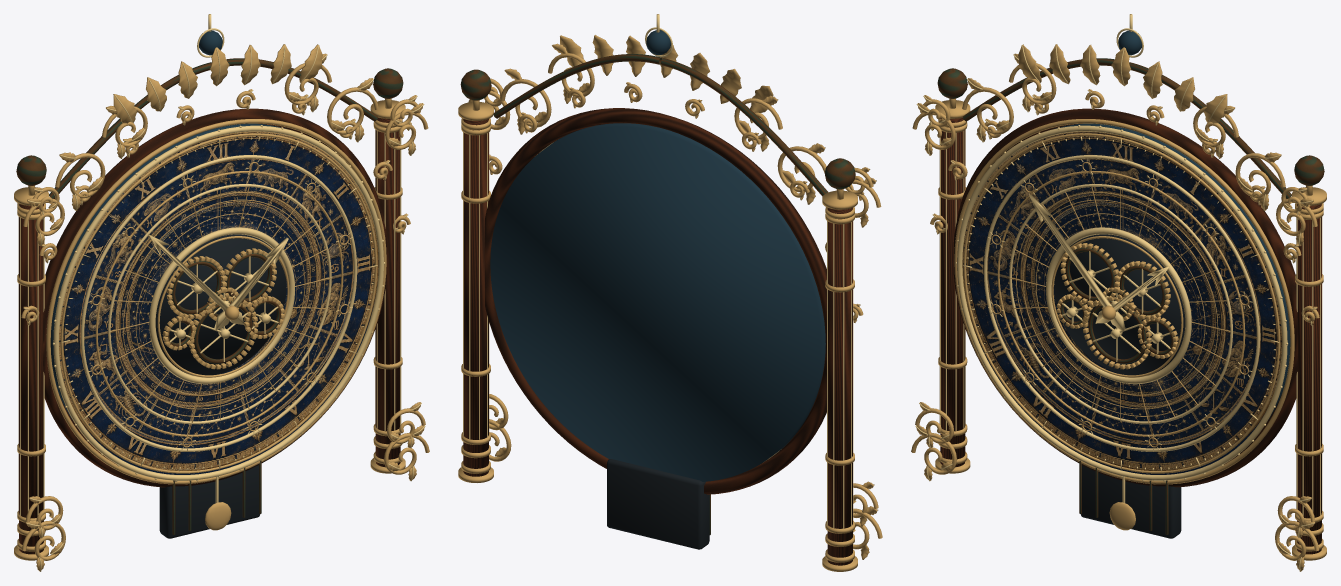
The model's file is astronomical-clock.glb.
3 renders of one model, left to right at view 1: azimuth 30°, elevation 25°; view 2: azimuth 150°, elevation 25°; view 3: azimuth 330°, elevation 25°, orthographic. The views are drawn at different scales.
Visible parts, largest first — view 1: Clock_Engraved_enamel_dial, Clock_Antique_gold, Clock_Polished_engraved_brass, Clock_Carved_walnut, Clock_Mechanism_recess, Clock_Oxidized_bronze, Clock_Midnight_enamel, HourHand, MinuteHand; view 2: Clock_Midnight_enamel, Clock_Carved_walnut, Clock_Antique_gold, Clock_Mechanism_recess, Clock_Oxidized_bronze, Clock_Polished_engraved_brass; view 3: Clock_Engraved_enamel_dial, Clock_Antique_gold, Clock_Polished_engraved_brass, Clock_Carved_walnut, Clock_Mechanism_recess, Clock_Oxidized_bronze, Clock_Midnight_enamel, MinuteHand, HourHand.
Boxes of the visible parts, x1,y1,x2,y2 form: Clock_Engraved_enamel_dial: (59,131,378,474); Clock_Antique_gold: (14,44,429,571); Clock_Polished_engraved_brass: (18,14,425,571); Clock_Carved_walnut: (19,108,400,554); Clock_Mechanism_recess: (155,234,286,538); Clock_Oxidized_bronze: (16,58,403,534); Clock_Midnight_enamel: (50,30,285,419); HourHand: (214,237,288,330); MinuteHand: (148,234,244,324); Clock_Midnight_enamel: (490,30,825,481); Clock_Carved_walnut: (463,108,852,565); Clock_Antique_gold: (458,35,882,571); Clock_Mechanism_recess: (607,459,709,549); Clock_Oxidized_bronze: (460,54,855,534); Clock_Polished_engraved_brass: (463,14,878,528); Clock_Engraved_enamel_dial: (962,131,1281,474); Clock_Antique_gold: (911,44,1326,571); Clock_Polished_engraved_brass: (915,14,1322,571); Clock_Carved_walnut: (940,108,1321,554); Clock_Mechanism_recess: (1054,234,1185,538); Clock_Oxidized_bronze: (937,58,1324,534); Clock_Midnight_enamel: (1055,30,1290,419); MinuteHand: (1029,194,1125,331); HourHand: (1095,266,1169,323).
Bounding box in the file's own units: 8.29 × 9.94 × 1.22.
Materials: 7 (3 with a texture image).
